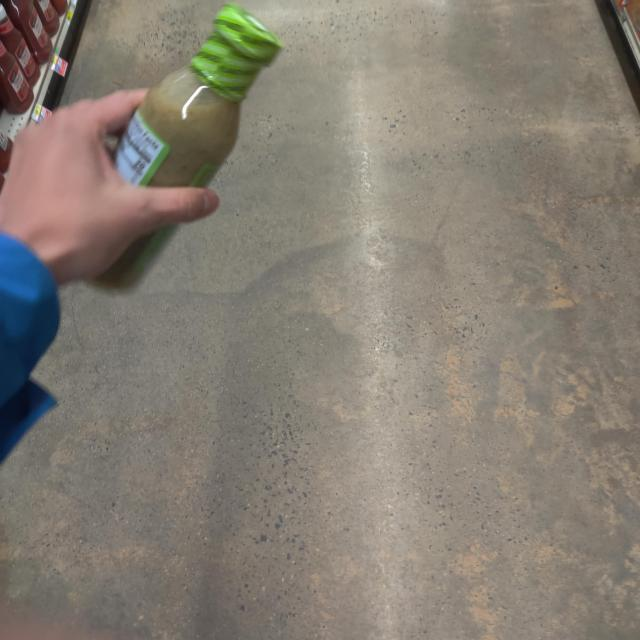Sauce: (60, 2, 278, 311)
